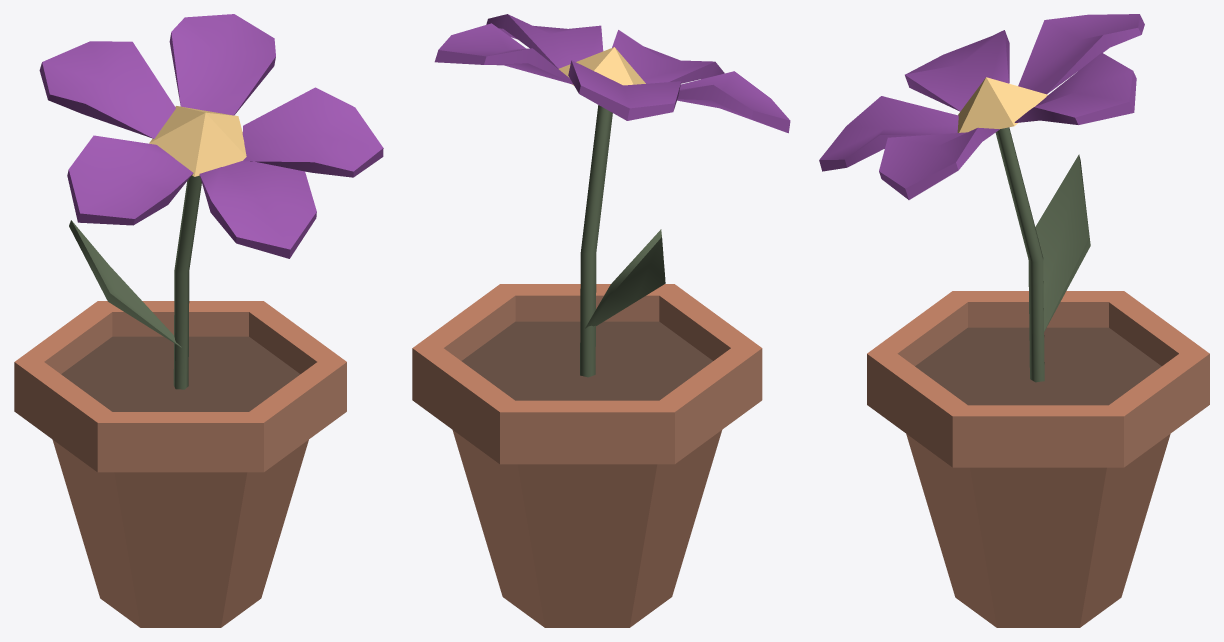
Rendered from Flowerpot.glb.
3 renders of one model, left to right at view 1: azimuth 30°, elevation 25°; view 2: azimuth 150°, elevation 25°; view 3: azimuth 270°, elevation 25°, orthographic. The views are drawn at different scales.
Visible parts, largest first — view 1: flowerpot-ver1; view 2: flowerpot-ver1; view 3: flowerpot-ver1.
Part boxes in pixels (x1,y1,x2,y2): flowerpot-ver1: (14,14,383,627); flowerpot-ver1: (412,14,790,627); flowerpot-ver1: (819,14,1209,627).
Size of the model in its own units: 0.3251 by 0.5835 by 0.3719.
1 material, 1 textured.
